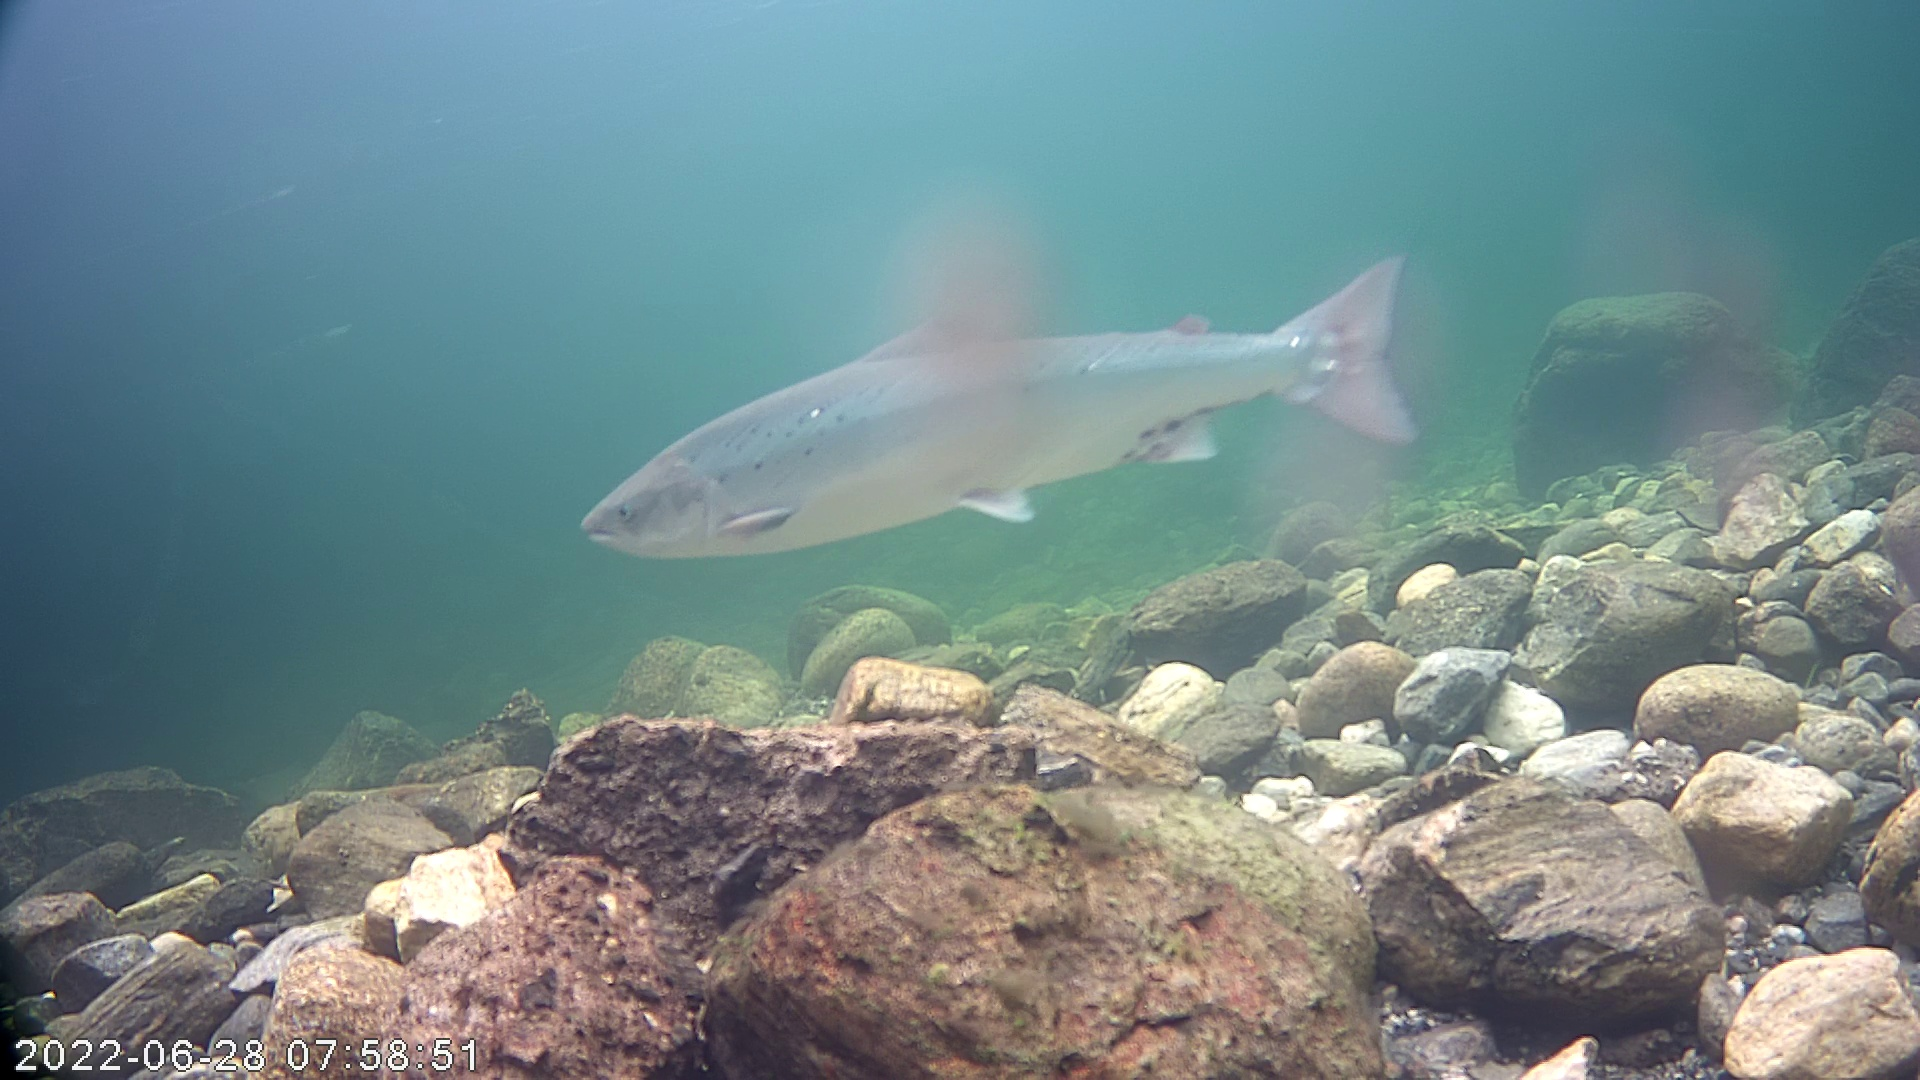salmon: (571, 171, 1449, 615)
